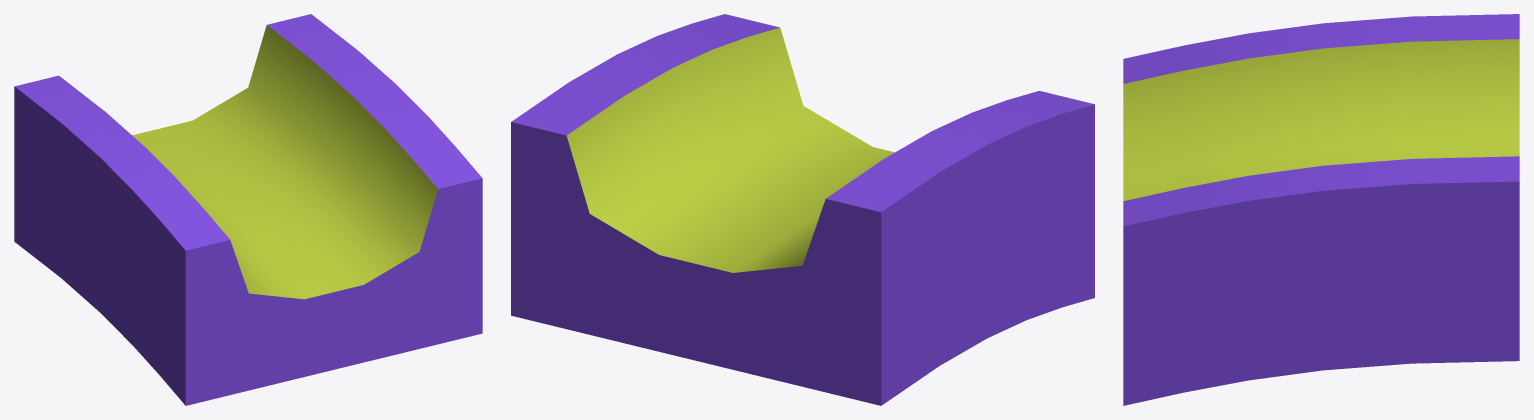
The model's file is rampEnd_A-col.dae.
3 views of the same model, side by side, from view 1: azimuth 30°, elevation 25°; view 2: azimuth 150°, elevation 25°; view 3: azimuth 270°, elevation 25° (orthographic). The views are drawn at different scales.
Visible parts, largest first — view 1: rampEnd_A-col; view 2: rampEnd_A-col; view 3: rampEnd_A-col.
Part boxes in pixels (box(x1,y1,x2,y2)): rampEnd_A-col: box(14, 14, 482, 405); rampEnd_A-col: box(511, 14, 1094, 405); rampEnd_A-col: box(1123, 14, 1519, 405).
Size of the model in its own units: 1 by 1 by 0.625.
